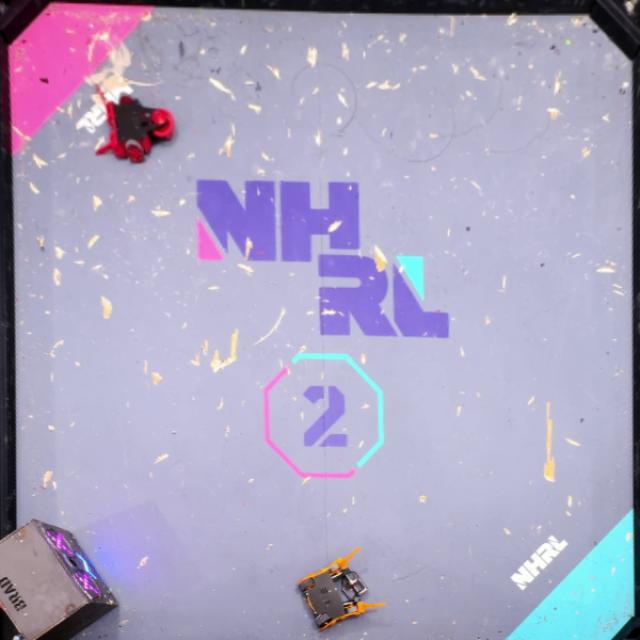housebot: (0, 517, 117, 639)
robot: (297, 546, 385, 630), (94, 84, 175, 164)
